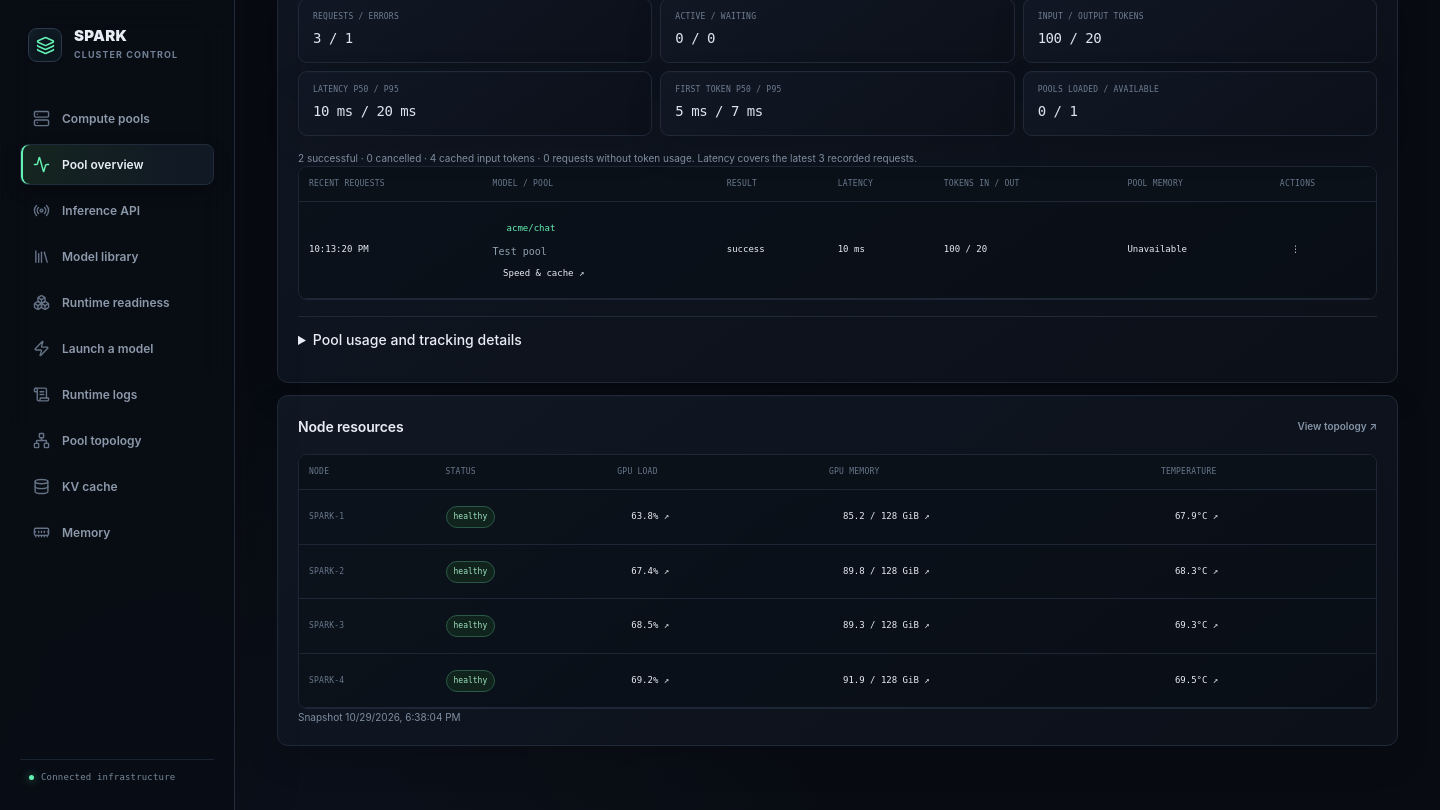
Test case: React dashboard parity › opens resource history and returns focus after Escape
(page scrolled)
Click the button named "View gpu history for spark-1" at (650, 517), box [617,502,683,533]
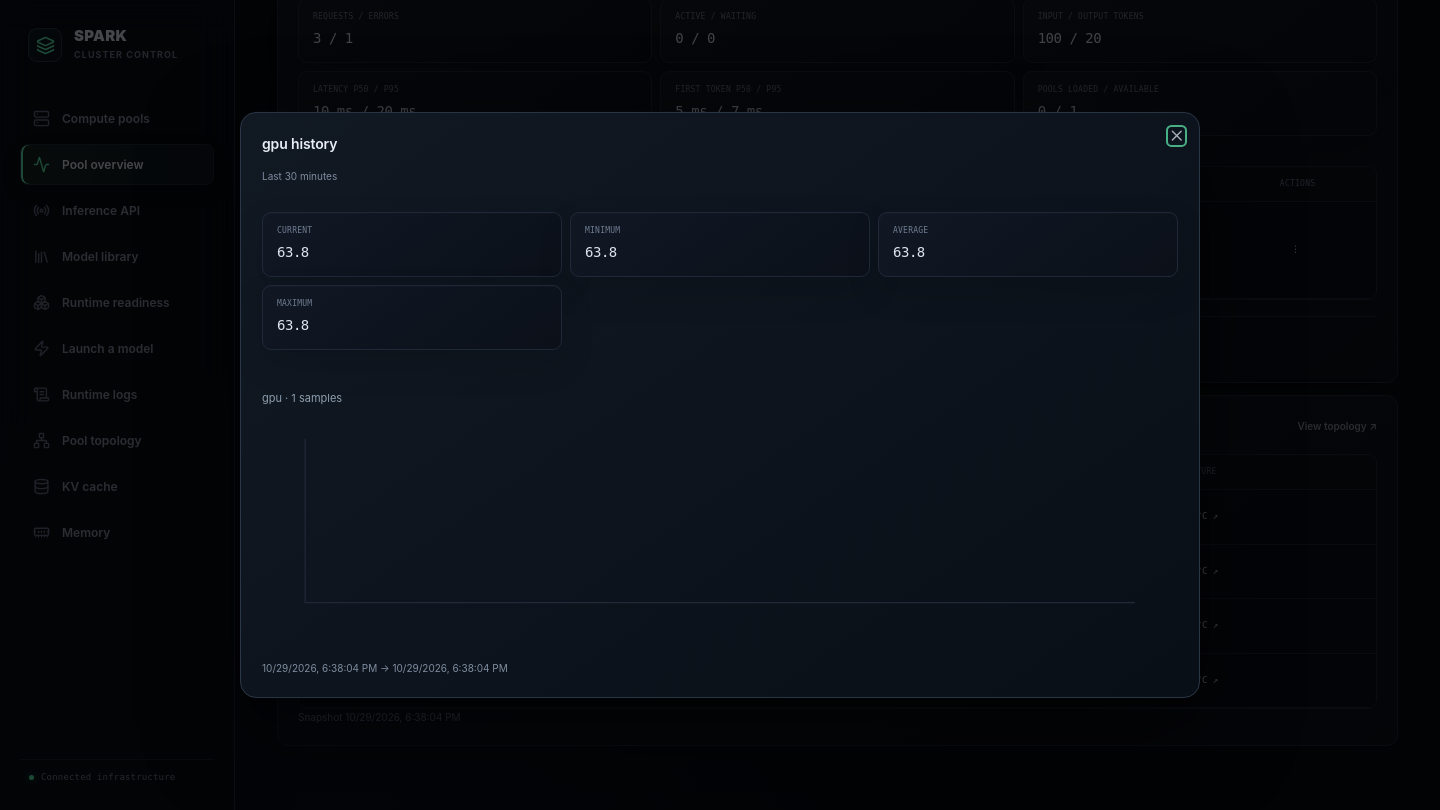
Expected: the dialog is shown, [240,112,1200,698]
Press Escape
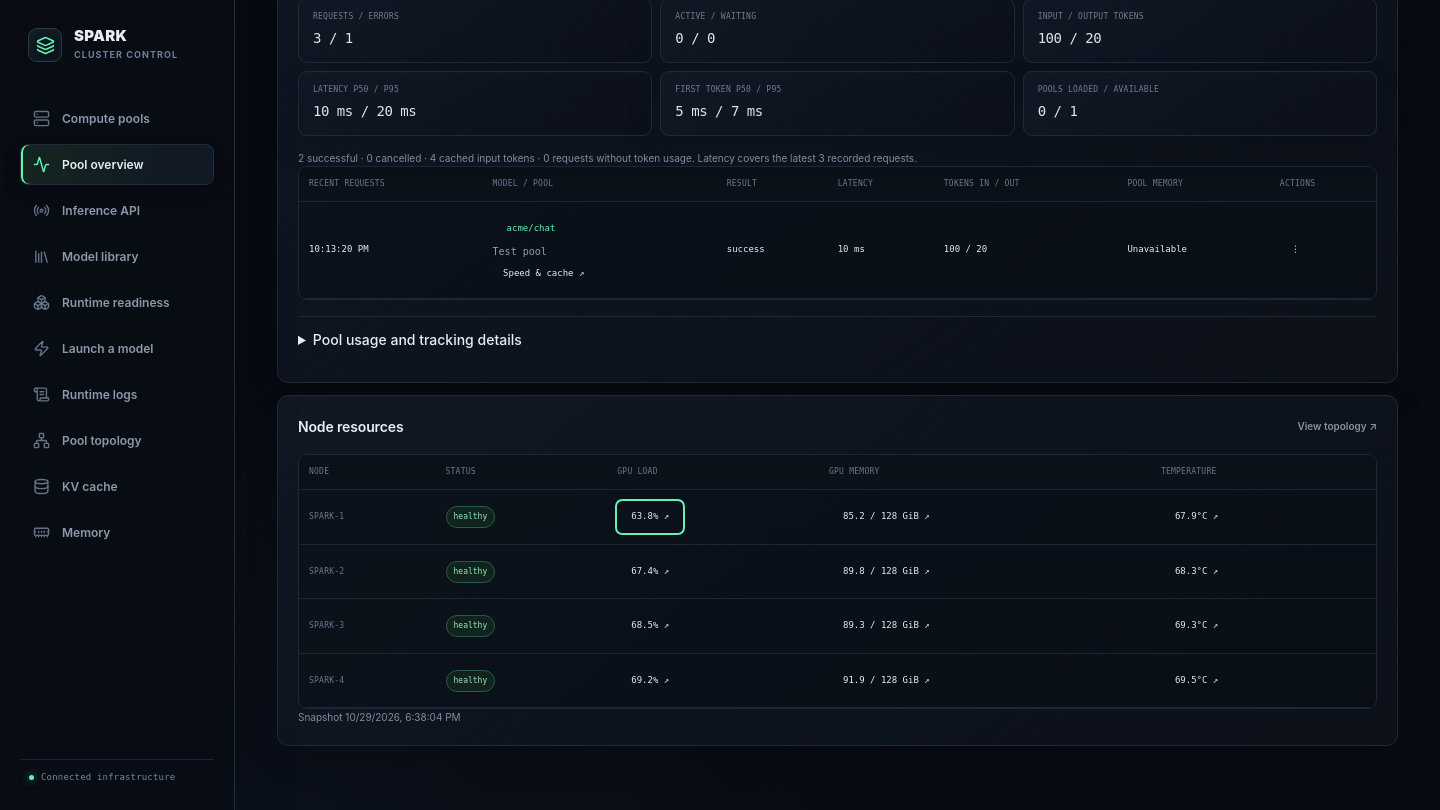
Expected: the dialog is gone
